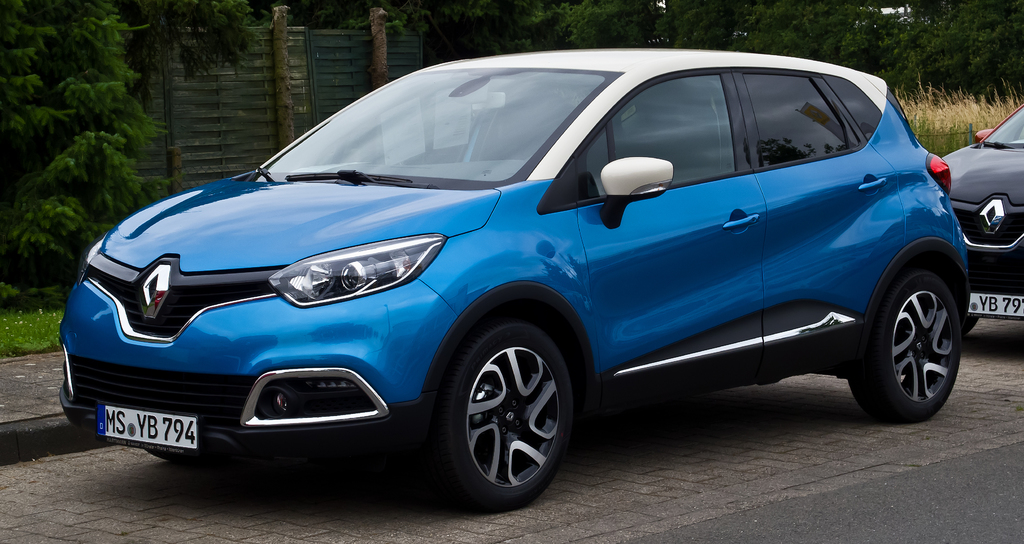Car: (28, 52, 960, 492), (949, 107, 1023, 321)
